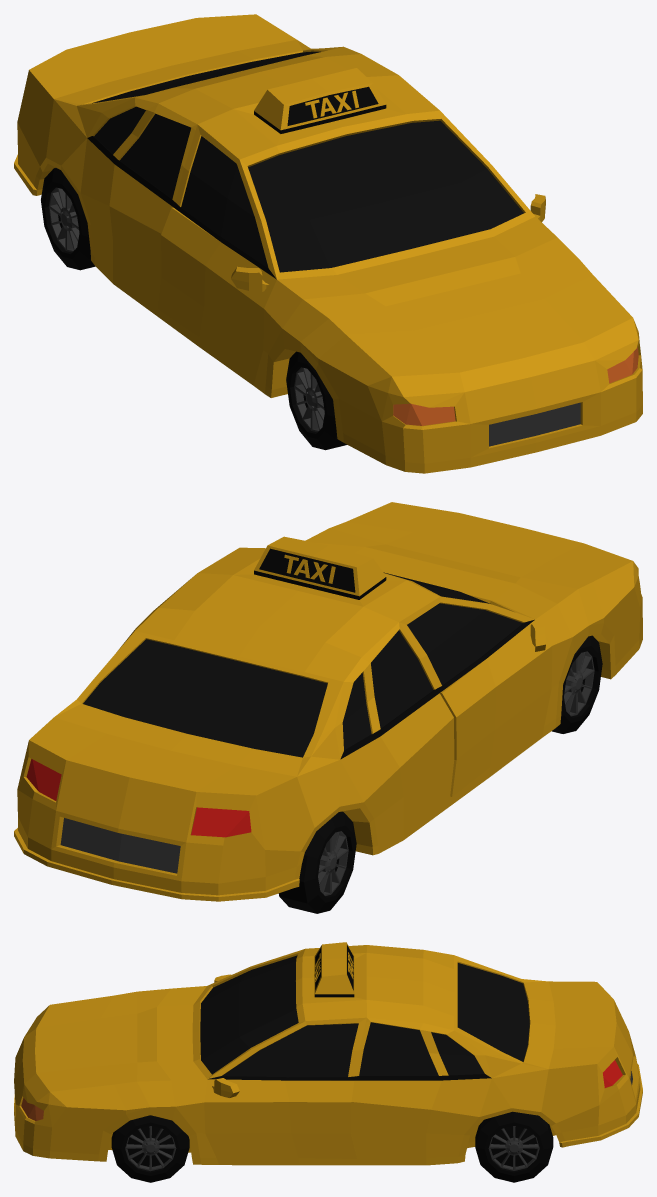
The model's file is car_Taxi.glb.
3 views of the same model, one above another, from view 1: azimuth 30°, elevation 25°; view 2: azimuth 150°, elevation 25°; view 3: azimuth 270°, elevation 25° (orthographic). The views are drawn at different scales.
Parts seen in each view (by area): view 1: Taxi, Taxi_BackWheels, Taxi_FrontRightWheel; view 2: Taxi, Taxi_BackWheels, Taxi_FrontRightWheel; view 3: Taxi, Taxi_BackWheels, Taxi_FrontLeftWheel.
Part boxes in pixels (box(x1,y1,x2,y2)): Taxi: box(14, 14, 642, 473); Taxi_BackWheels: box(41, 168, 95, 270); Taxi_FrontRightWheel: box(286, 351, 346, 450); Taxi: box(14, 502, 642, 901); Taxi_BackWheels: box(278, 811, 356, 913); Taxi_FrontRightWheel: box(552, 635, 602, 733); Taxi: box(14, 942, 642, 1165); Taxi_BackWheels: box(475, 1111, 553, 1182); Taxi_FrontLeftWheel: box(111, 1115, 189, 1182).
Size of the model in its own units: 1.93 by 1.4 by 4.5.
1 material, 1 textured.
